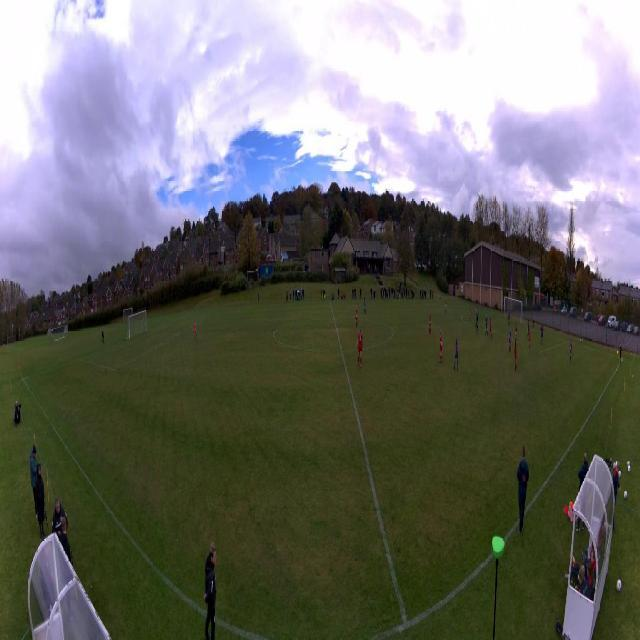player: (357, 328, 363, 365), (453, 339, 458, 369), (439, 332, 443, 361), (513, 343, 517, 370), (508, 328, 512, 352), (474, 306, 478, 328), (489, 319, 493, 340), (475, 314, 479, 335), (194, 320, 198, 340), (429, 312, 432, 336), (540, 326, 544, 344), (355, 306, 358, 328), (514, 323, 517, 345), (526, 319, 529, 340), (364, 295, 367, 315), (569, 342, 572, 362), (528, 331, 531, 351), (485, 317, 488, 336), (532, 315, 535, 330), (469, 305, 471, 322), (508, 309, 510, 325), (445, 299, 447, 314), (476, 302, 478, 312)
